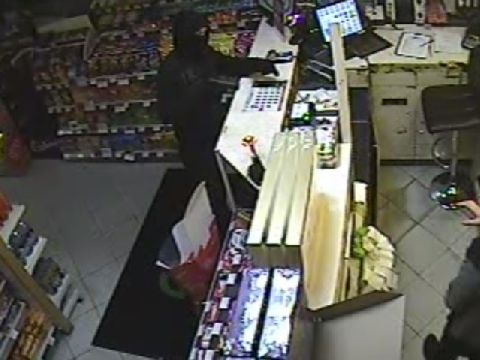gun: (263, 53, 302, 80)
